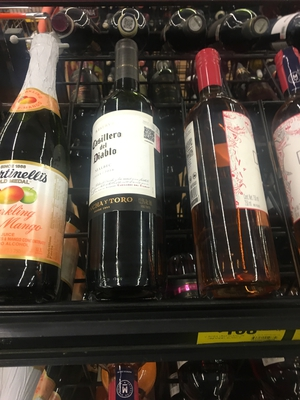casillero del diablo malbec: (83, 51, 180, 327)
